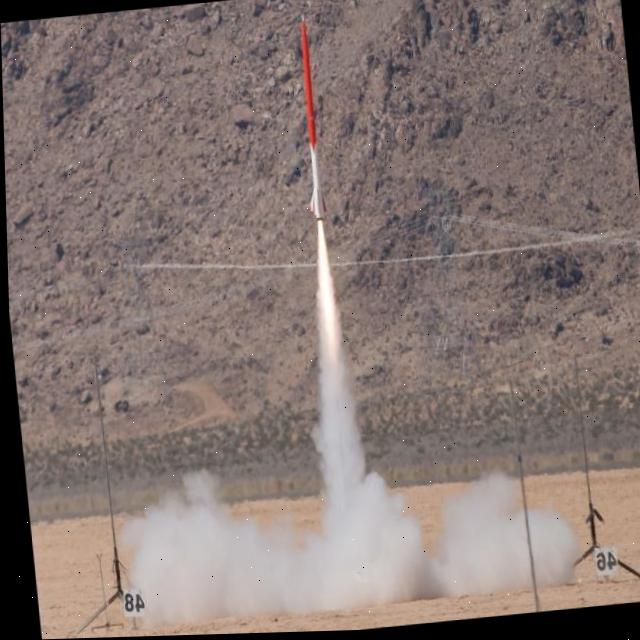missile: (282, 16, 329, 223)
